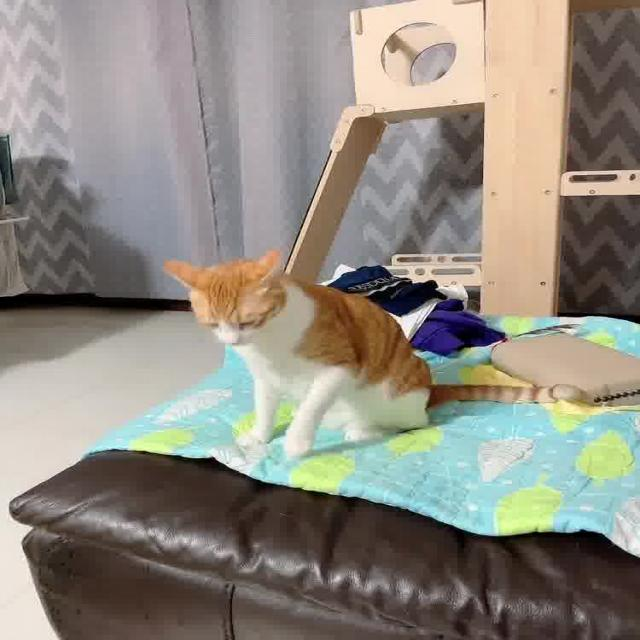cat: (154, 246, 589, 460)
